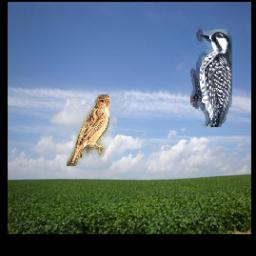Sparrow: (68, 95, 110, 167)
Woodpecker: (190, 27, 232, 127)
